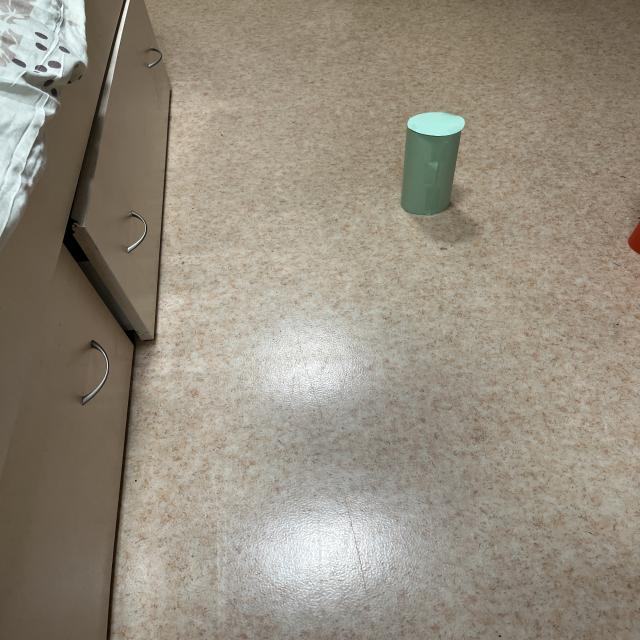meta: (401, 112, 465, 215)
